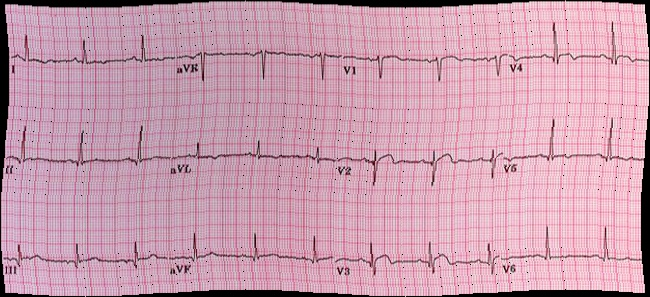Lead_I: (1, 26, 169, 87)
Lead_II: (1, 115, 170, 187)
Lead_III: (2, 232, 169, 286)
Lead_V1: (340, 39, 509, 83)
Lead_V2: (338, 140, 508, 182)
Lead_V3: (337, 233, 507, 285)
Lead_V4: (508, 11, 650, 84)
Lead_V5: (508, 112, 650, 194)
Lead_V6: (504, 222, 650, 287)
Lead_aVF: (169, 229, 339, 284)
Lead_aVL: (168, 129, 338, 183)
Lead_aVR: (169, 25, 339, 86)
